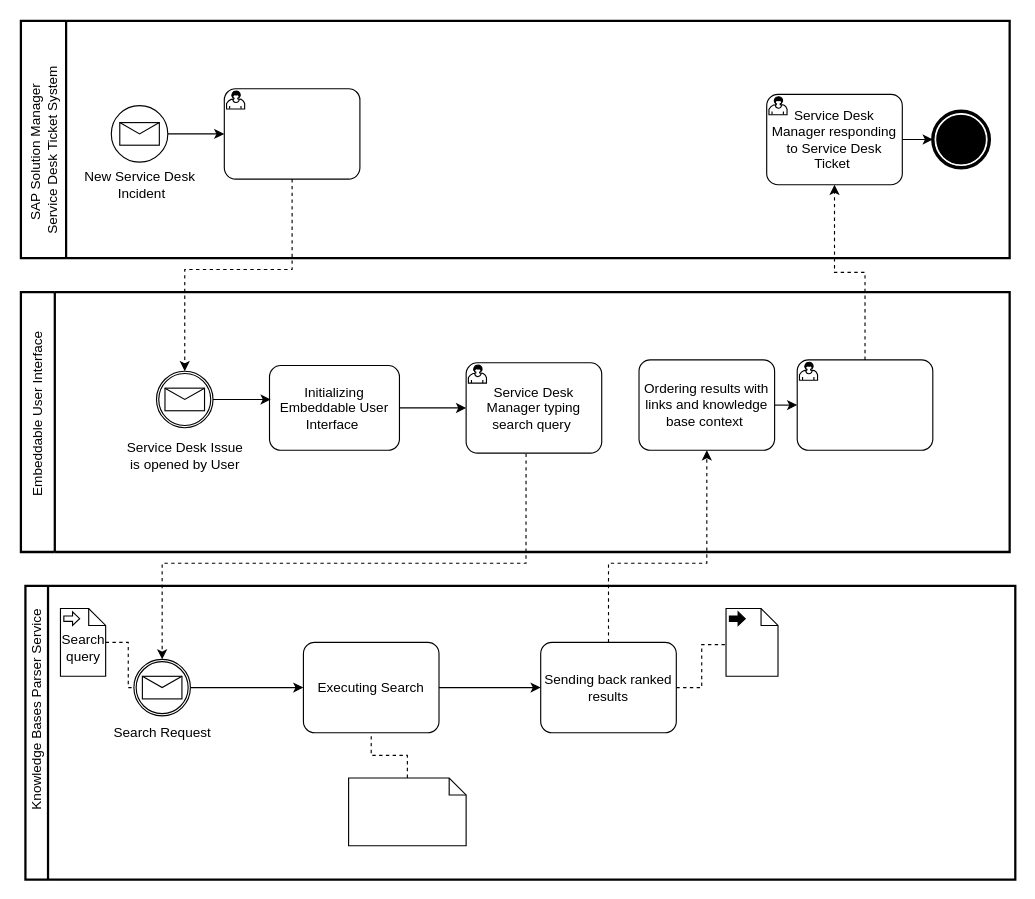
Image size: 1035x899. Some labels were removed from this diagram. Here are the shapes that lost their labels. From the top down, the centre of each, then its label:
At point (291, 133): "Service Desk Manager Opens Ticket".
At point (864, 404): "Service Desk Manager selects an article with matching Service Desk issue context".
At point (751, 641): "Search results".
At point (406, 811): "Elastic Search Database".
